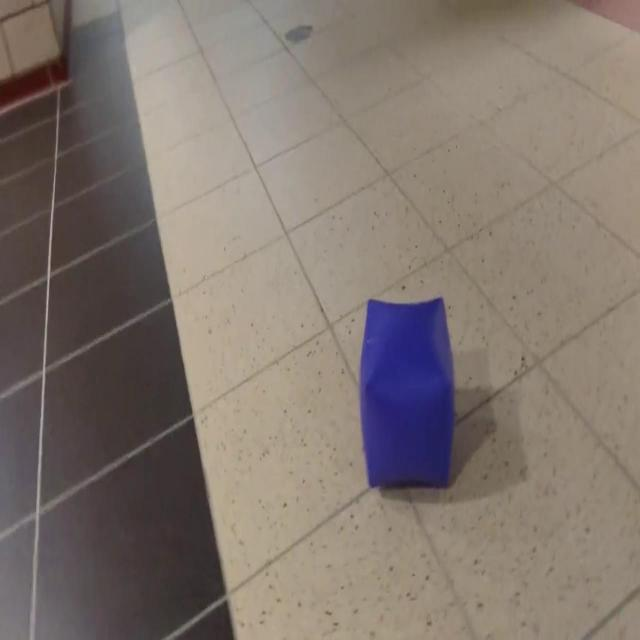frc_cube: (356, 297, 456, 491)
